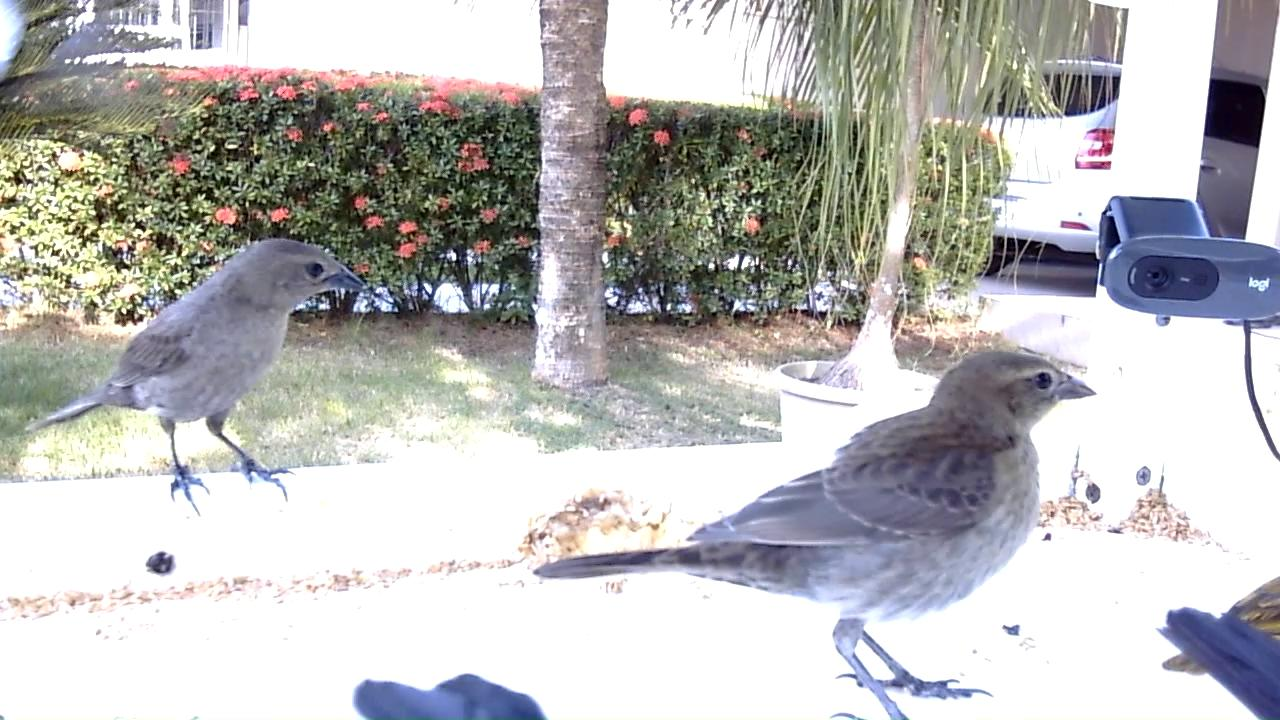chupim: (531, 348, 1103, 720), (23, 236, 376, 522)
